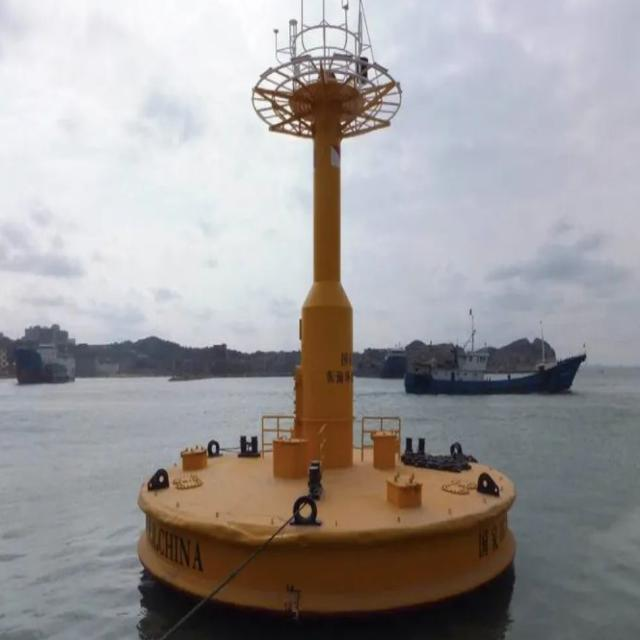buoy: (136, 0, 523, 619)
